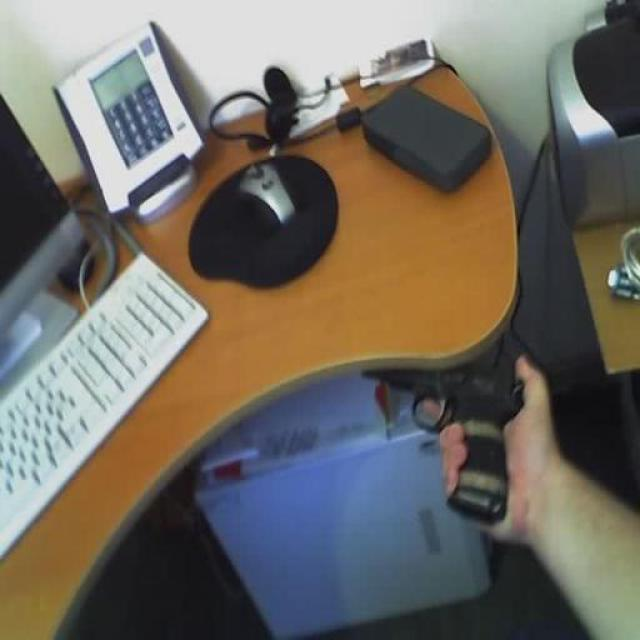pistol: (360, 346, 522, 527)
